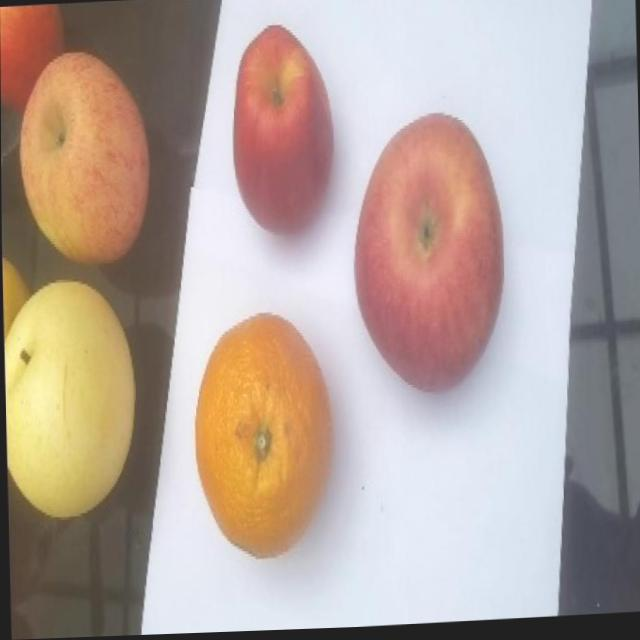Apple: (349, 111, 506, 399), (15, 47, 152, 269), (228, 22, 335, 239), (0, 2, 66, 114)
Orange: (190, 310, 334, 563)
